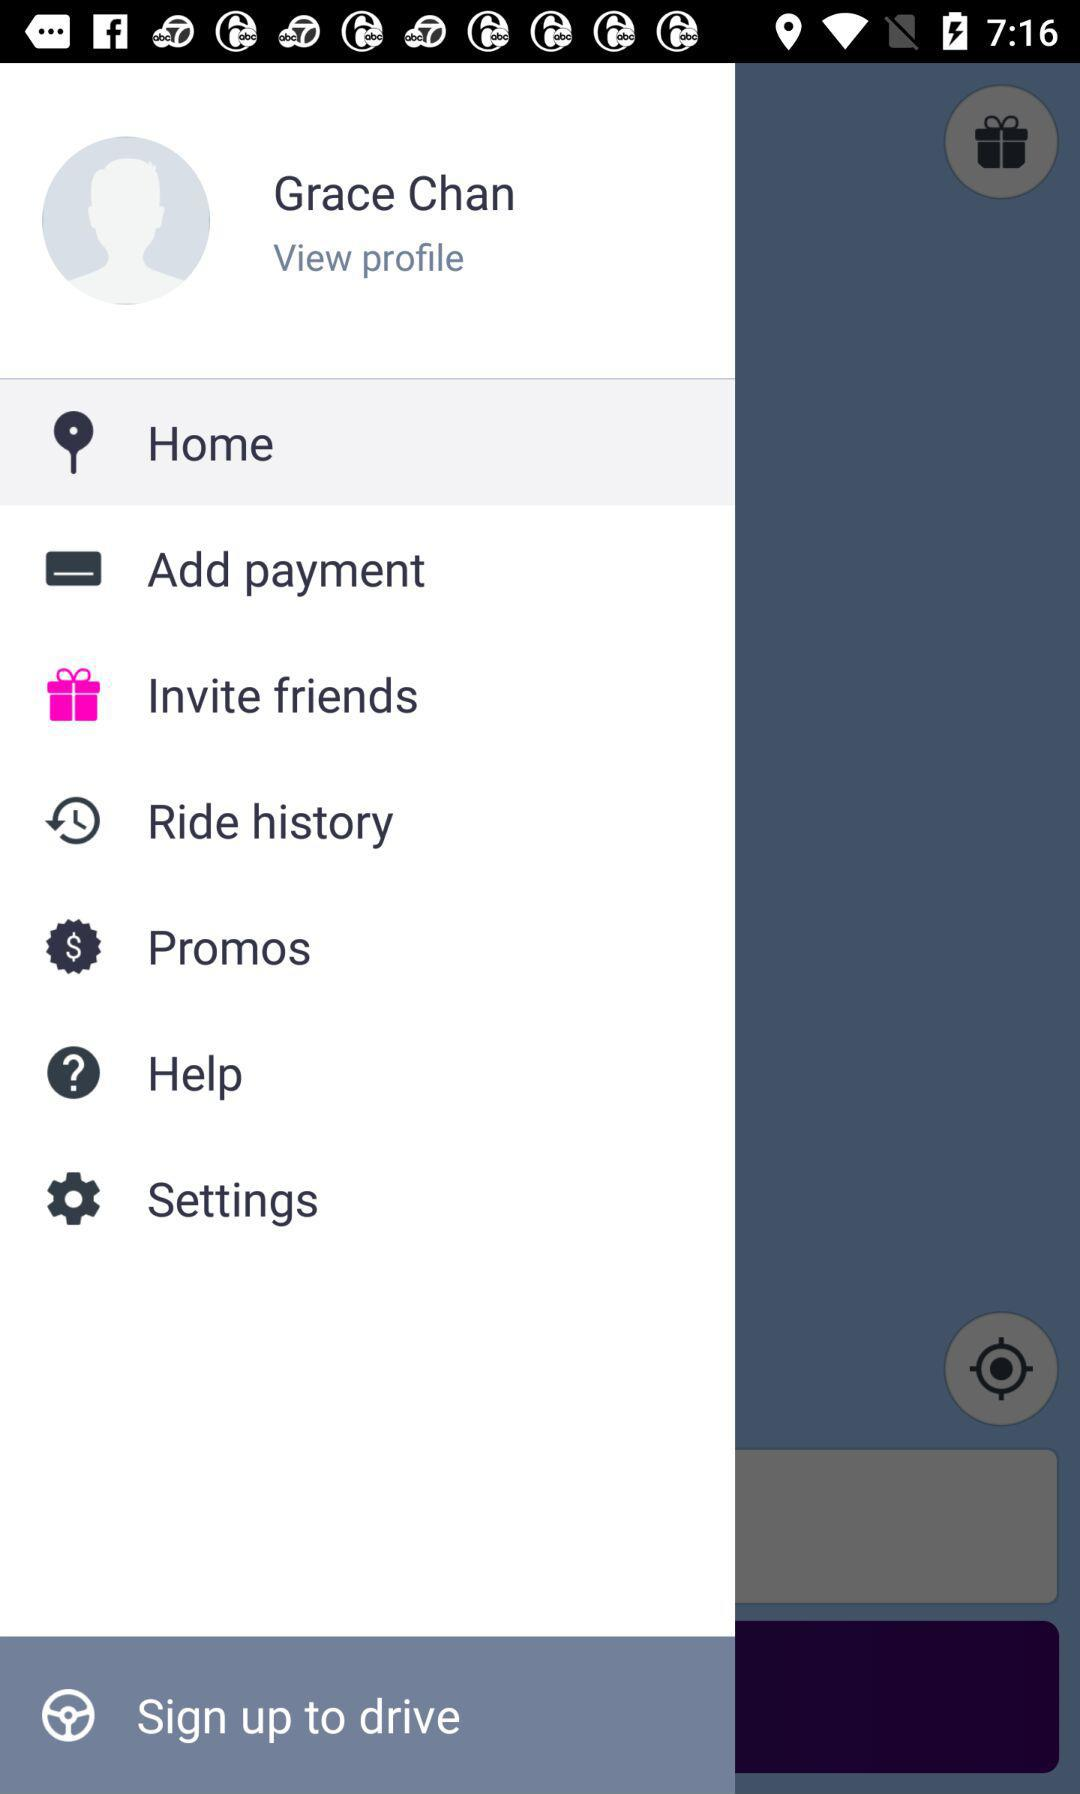Drawer: (1, 65, 735, 1794)
Icon: (42, 136, 211, 306), (46, 918, 102, 975), (47, 1171, 102, 1228), (47, 1044, 102, 1101), (47, 668, 102, 723), (44, 796, 102, 846), (53, 410, 96, 475), (46, 551, 104, 588)
Text: (147, 548, 427, 598), (150, 800, 396, 851), (150, 675, 419, 718), (274, 172, 516, 214), (147, 1181, 319, 1229), (272, 242, 465, 281), (150, 930, 313, 969), (149, 424, 275, 464), (150, 1055, 245, 1103)
TextButton: (1, 1636, 735, 1794)
UpperTaskBar: (1, 1, 1080, 64)
